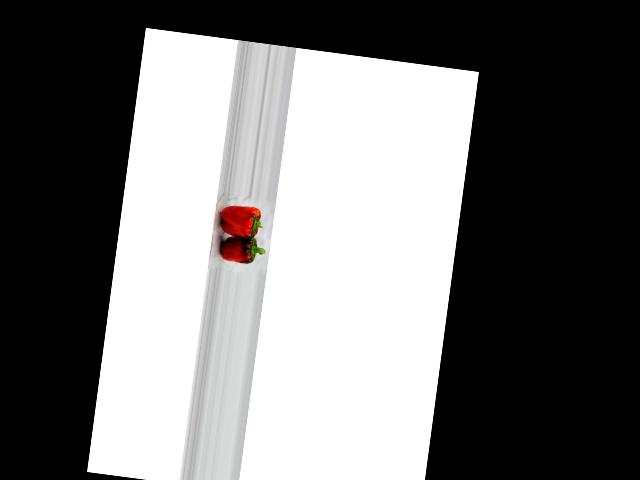bell_pepper: (217, 197, 268, 239)
